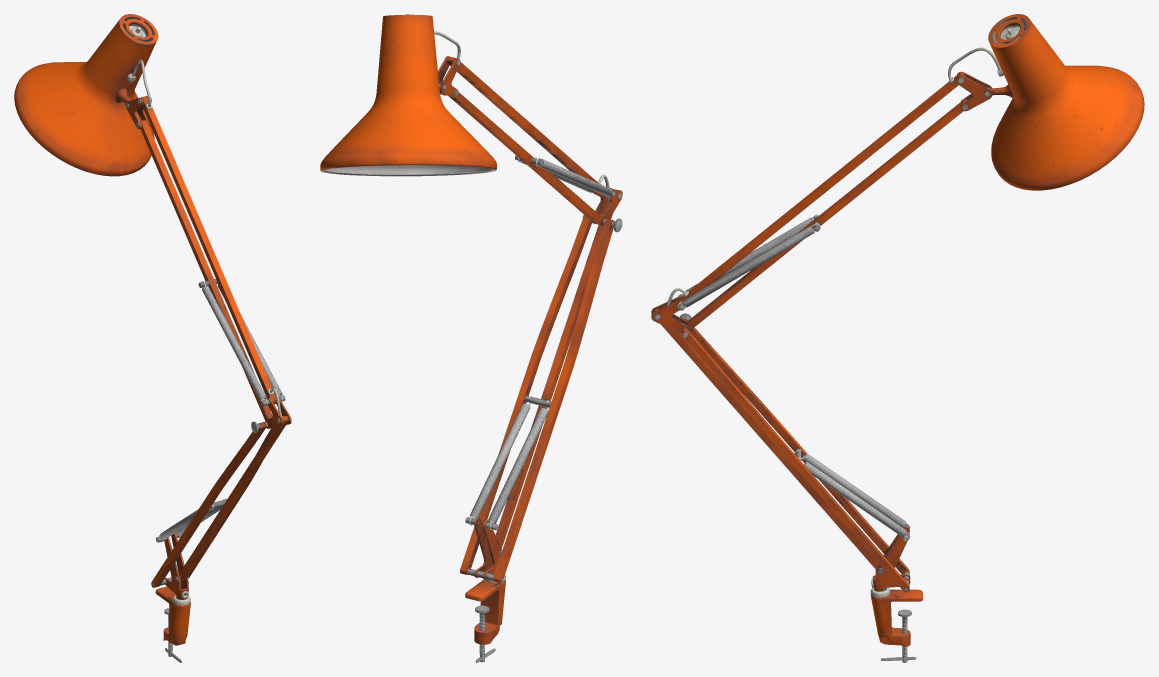
File: desk_lamp_arm_01.glb
3 renders of one model, left to right at view 1: azimuth 30°, elevation 25°; view 2: azimuth 150°, elevation 25°; view 3: azimuth 270°, elevation 25°, orthographic. The views are drawn at different scales.
Parts seen in each view (by area): view 1: desk_lamp_arm_01; view 2: desk_lamp_arm_01; view 3: desk_lamp_arm_01.
Boxes of the visible parts, x1,y1,x2,y2 form: desk_lamp_arm_01: [14, 14, 291, 662]; desk_lamp_arm_01: [320, 14, 622, 662]; desk_lamp_arm_01: [651, 14, 1144, 662].
Bounding box in the file's own units: 0.2018 × 0.8926 × 0.6139.
Materials: 2 (2 with a texture image).
